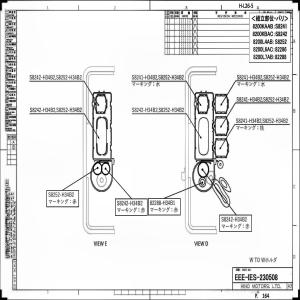PartNumber: (149, 199, 176, 207), (29, 73, 55, 81), (236, 73, 262, 81), (236, 95, 262, 103), (56, 106, 83, 113), (158, 106, 185, 113), (48, 191, 75, 198), (116, 200, 143, 207), (221, 216, 248, 223), (30, 106, 56, 113), (132, 73, 158, 80), (264, 73, 290, 80), (262, 117, 288, 124), (132, 106, 157, 113), (56, 74, 83, 80), (235, 118, 262, 124), (158, 74, 184, 80), (263, 96, 289, 102)
